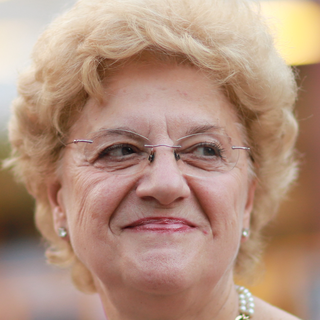eye: (99, 140, 148, 164), (180, 140, 226, 165)
